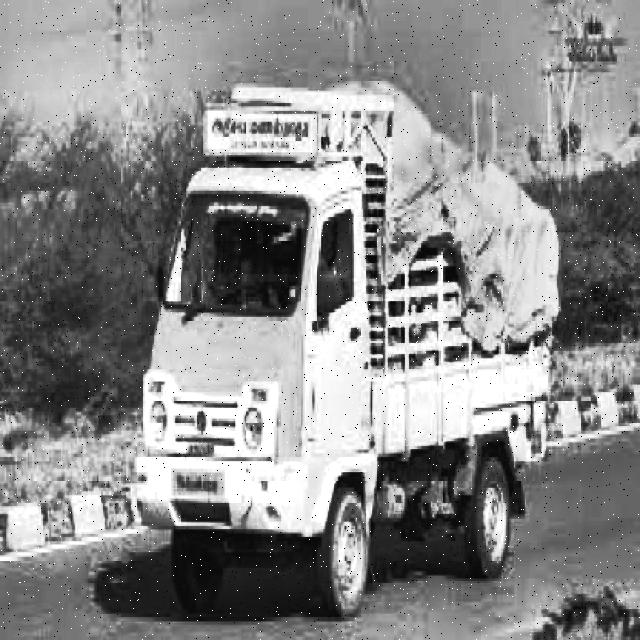LCV: (121, 92, 552, 557)
